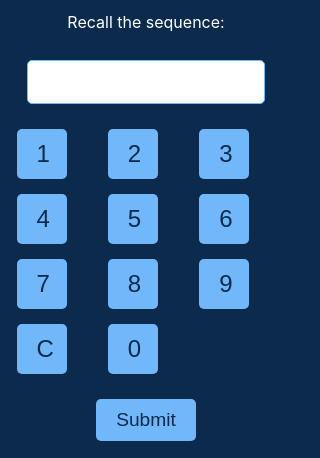
Test: InputPhase › should display the typed numbers in the input field
Expected: the field is empty, [27,60,265,104]
What coordinates should you click on to do the following:
click the button "1"
I would click on:
 (42, 154)
Its box is [16,128,66,178].
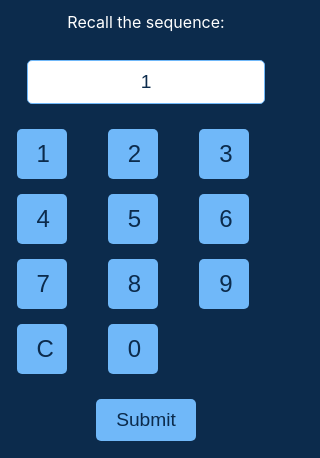
What coordinates should you click on to do the following:
click the button "2"
I would click on:
 (133, 154)
Its box is [108,128,158,178].
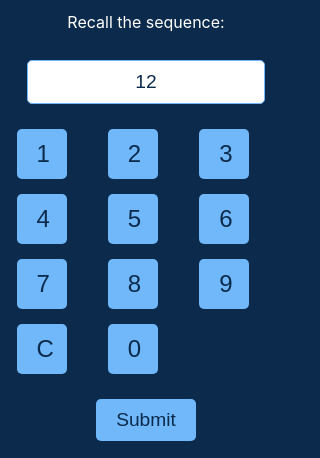
What coordinates should you click on to do the following:
click the button "3"
I would click on:
 (224, 154)
Its box is [199,128,249,178].
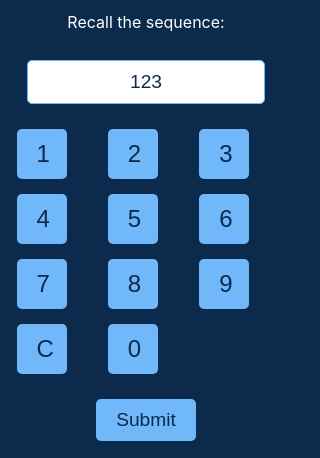
Expected: the field holds "123", [27,60,265,104]
